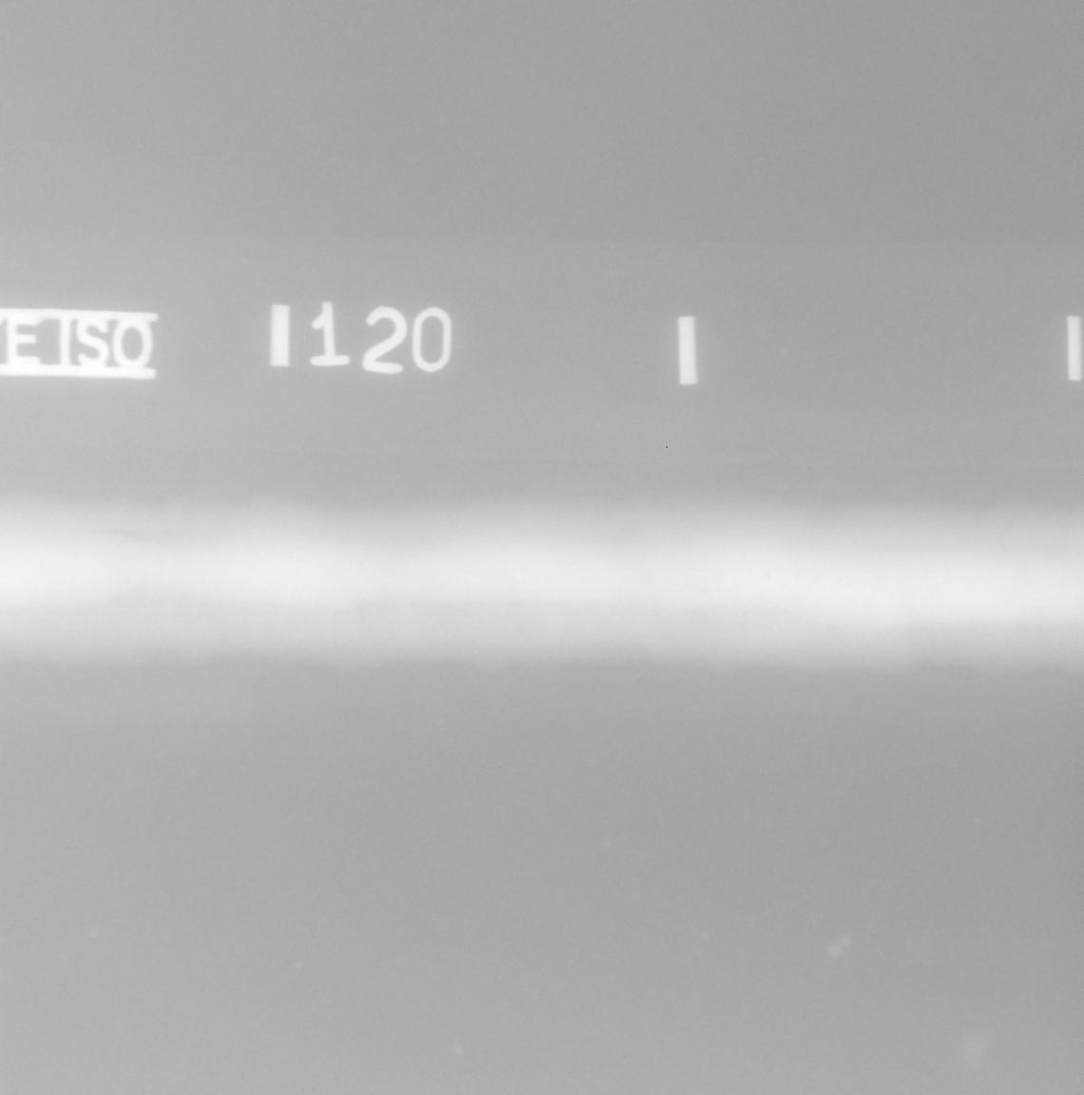Inclusion: (110, 529, 137, 538)
Pore/Porosity: (700, 588, 709, 596), (764, 572, 770, 579)
